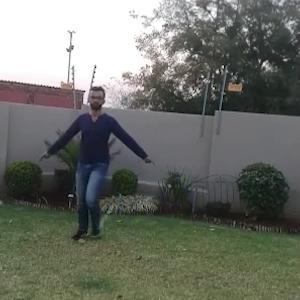land: (53, 93, 150, 221)
